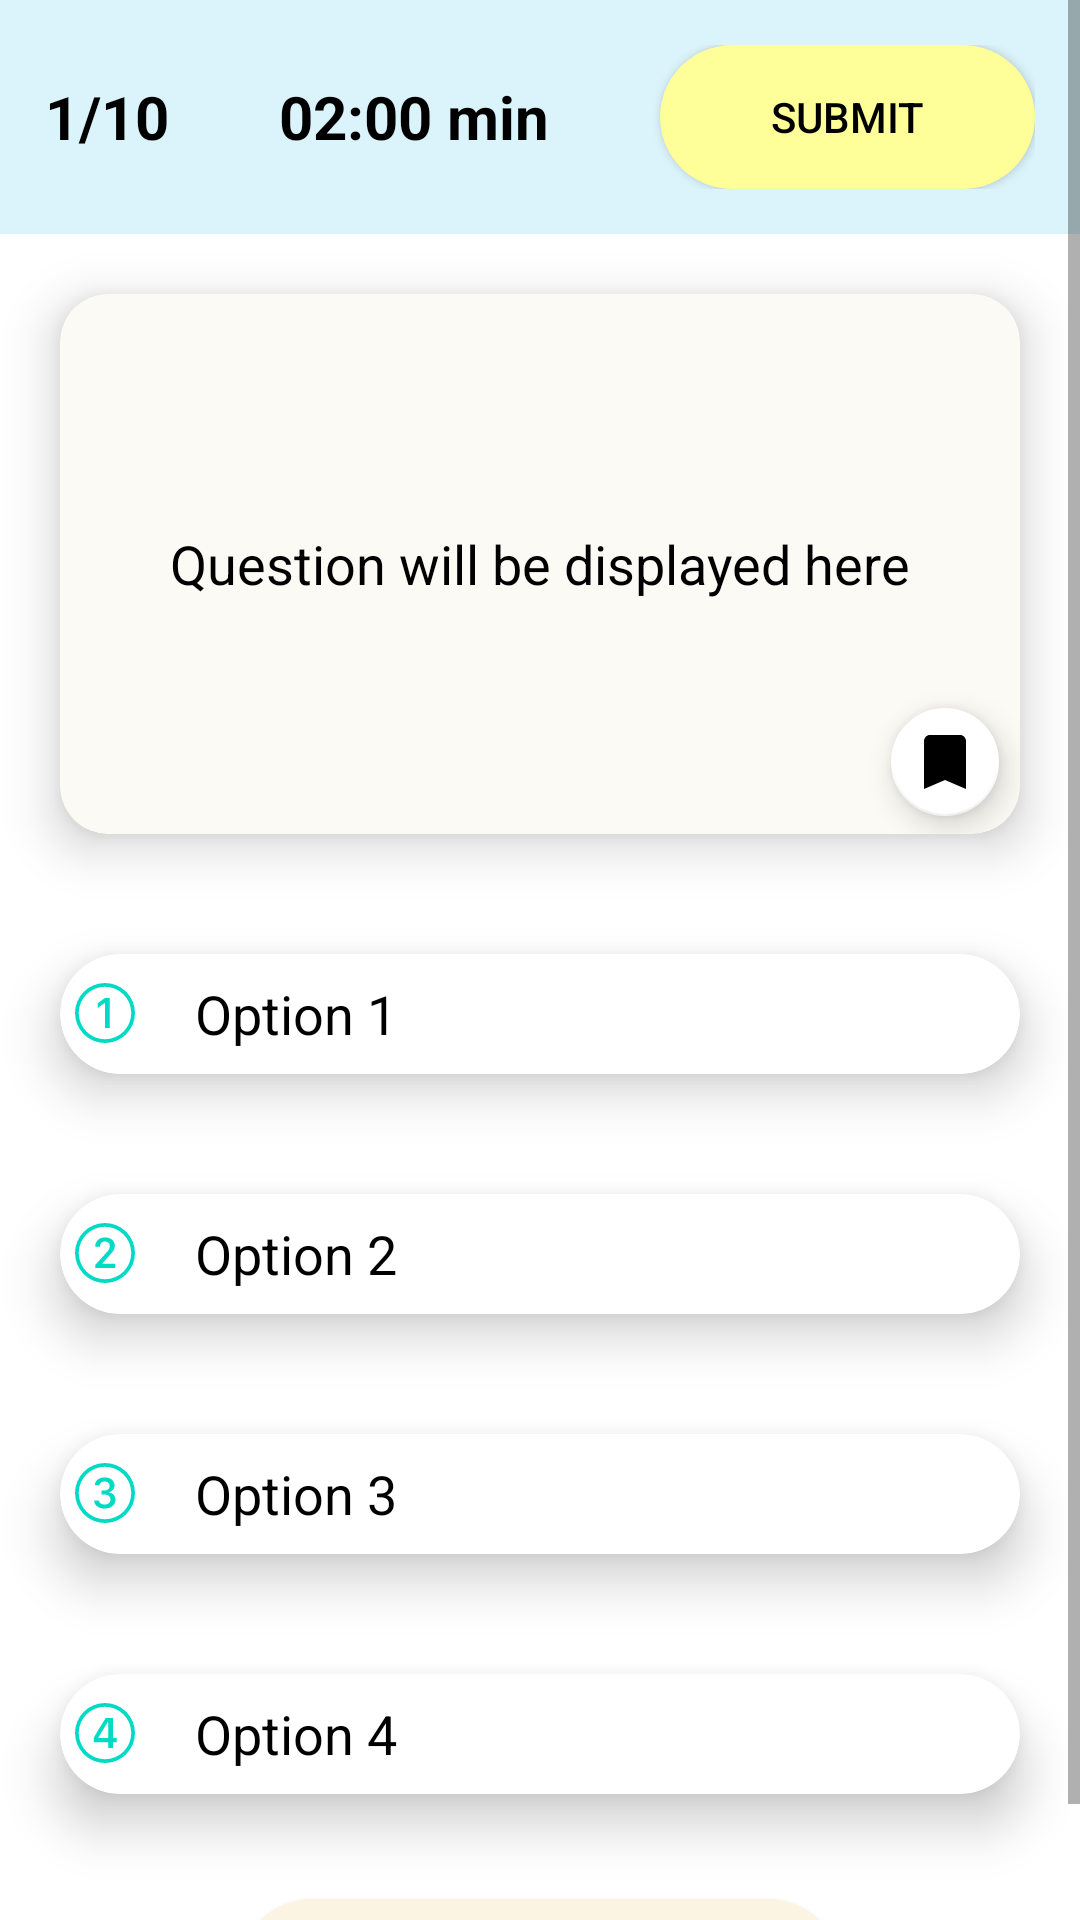

Where to tap for icons on this 1080px×1920px app screen, as [x,y]:
bookmark: [951,769]
